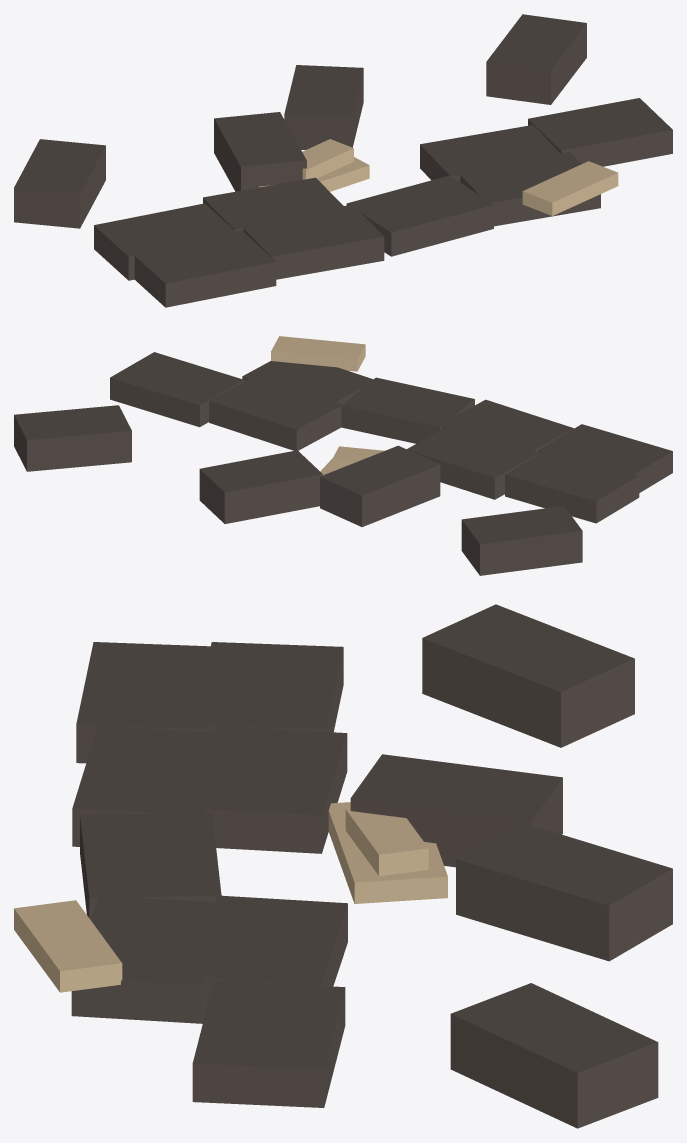
File: SM_PretilTramo_v3_Tablon_e3_Brecha_LOD0.fbx
3 views of the same model, one above another, from view 1: azimuth 30°, elevation 25°; view 2: azimuth 150°, elevation 25°; view 3: azimuth 270°, elevation 25° (orthographic). The views are drawn at different scales.
Parts seen in each view (by area): view 1: SM_pretil_azotea_v15_LOD0; view 2: SM_pretil_azotea_v15_LOD0; view 3: SM_pretil_azotea_v15_LOD0.
Boxes of the visible parts, <box> form: SM_pretil_azotea_v15_LOD0: <box>14,14,672,307</box>; SM_pretil_azotea_v15_LOD0: <box>14,336,672,575</box>; SM_pretil_azotea_v15_LOD0: <box>14,604,672,1128</box>.
Size of the model in its own units: 4.69 by 0.26 by 2.79.
